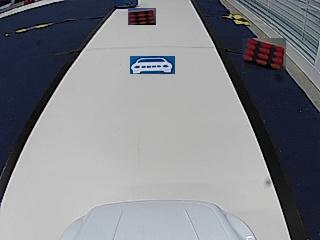prop: (117, 0, 138, 8)
